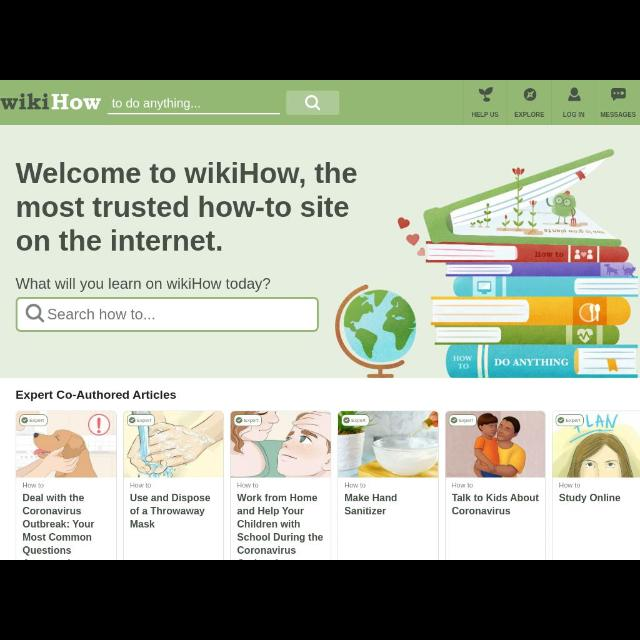backgroundimage: (3, 129, 637, 379)
button: (285, 90, 339, 116)
icon: (23, 303, 44, 321)
image: (18, 412, 118, 478), (125, 412, 223, 478), (339, 412, 437, 478), (232, 413, 331, 477), (447, 413, 545, 477), (554, 410, 638, 478), (0, 91, 100, 112), (479, 86, 495, 102), (614, 88, 626, 100), (569, 88, 579, 102), (526, 89, 536, 101)
input: (17, 299, 317, 329), (109, 94, 284, 116)
text: (16, 162, 357, 252), (238, 492, 326, 554), (23, 495, 96, 557), (131, 490, 211, 528), (14, 280, 272, 290), (452, 493, 540, 513), (15, 390, 178, 400), (48, 308, 158, 322), (111, 96, 201, 112), (344, 493, 398, 513), (560, 494, 620, 504), (602, 112, 636, 118), (344, 481, 368, 489), (514, 111, 544, 117), (558, 482, 580, 490), (562, 111, 586, 117), (130, 482, 152, 488), (237, 482, 259, 488), (451, 483, 473, 489), (23, 482, 43, 488), (472, 114, 498, 118)
toolbar: (2, 82, 640, 126)
